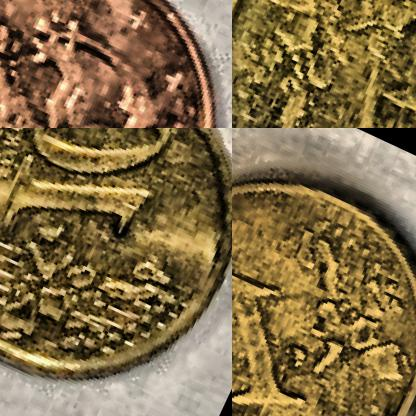coin: (0, 128, 231, 415), (232, 128, 415, 415), (0, 0, 231, 127), (232, 0, 415, 127)
